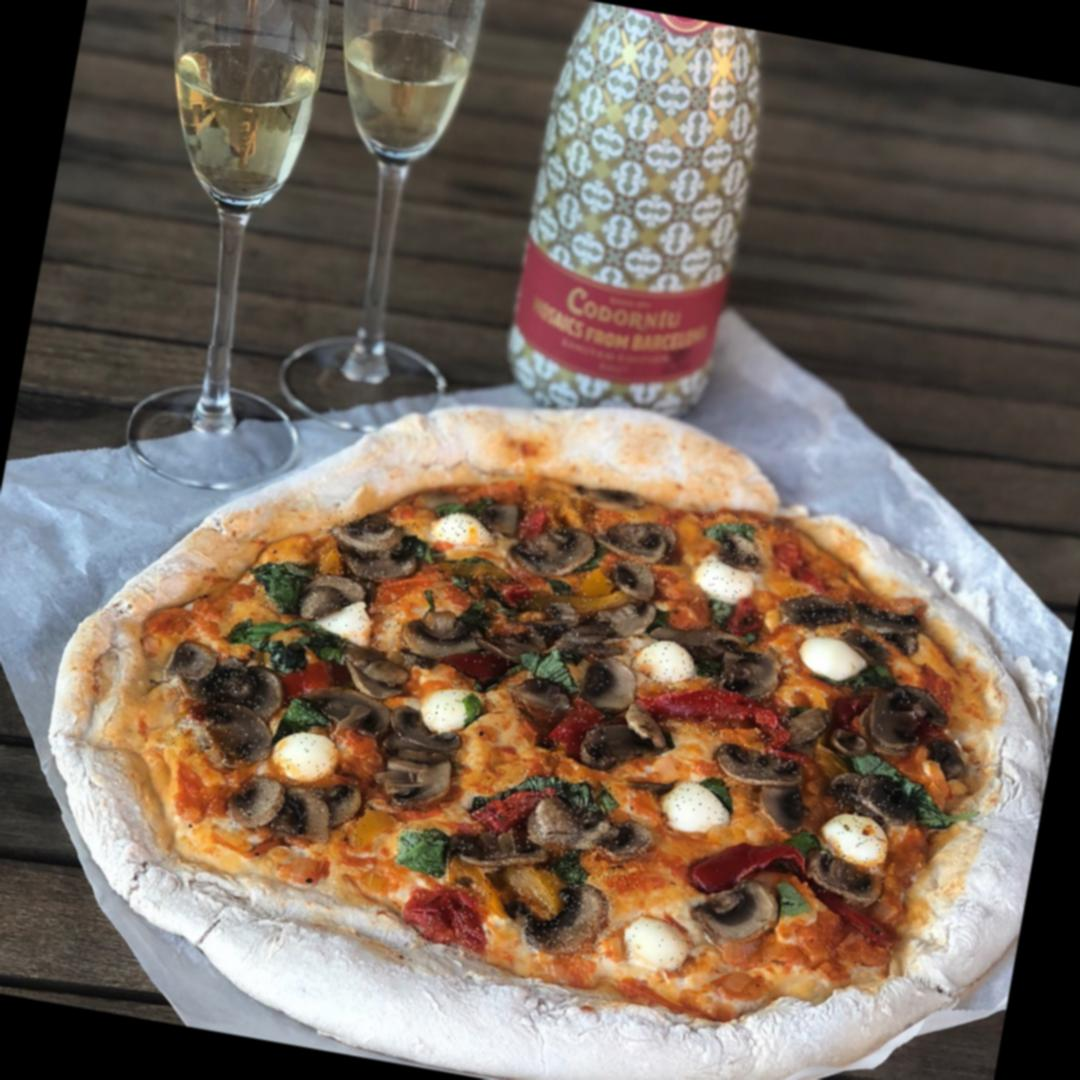Basil: (499, 764, 620, 815), (234, 616, 342, 671), (392, 821, 454, 879), (253, 556, 309, 612), (522, 647, 578, 692), (281, 697, 336, 734), (700, 510, 766, 540)
Cheese: (664, 778, 734, 832), (623, 917, 688, 968), (826, 812, 891, 863), (276, 730, 335, 778), (639, 638, 696, 686), (697, 559, 756, 604), (428, 684, 486, 728), (434, 508, 497, 548), (312, 600, 374, 640)
Mushroom: (410, 560, 650, 690), (456, 791, 652, 890), (514, 495, 679, 593), (162, 645, 285, 769), (303, 506, 419, 630), (236, 770, 370, 846), (782, 584, 930, 652), (520, 875, 618, 964), (691, 625, 796, 707), (860, 679, 954, 765), (696, 875, 785, 948), (710, 740, 805, 799), (808, 850, 888, 909), (830, 767, 910, 823), (714, 533, 764, 569)
Pizza: (29, 333, 1080, 1080)
Tomatoes: (639, 669, 798, 748), (404, 880, 492, 958), (478, 771, 548, 838), (542, 701, 610, 760)
